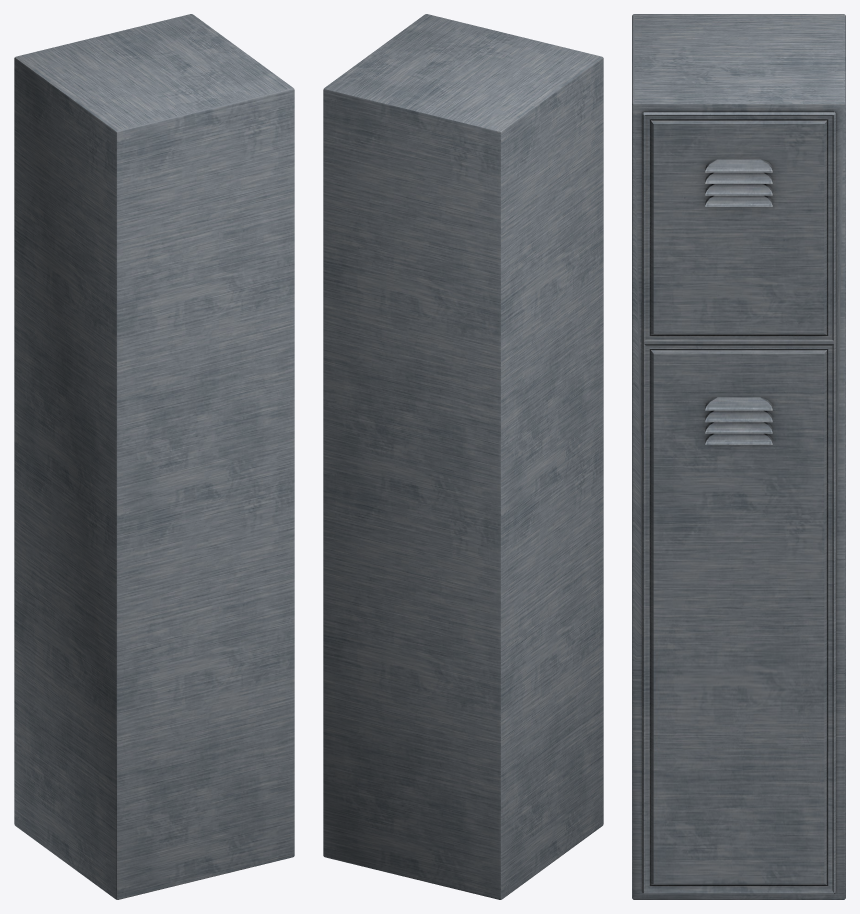
Rendered from locker.glb.
3 views of the same model, side by side, from view 1: azimuth 30°, elevation 25°; view 2: azimuth 150°, elevation 25°; view 3: azimuth 270°, elevation 25° (orthographic). The views are drawn at different scales.
Parts seen in each view (by area): view 1: Spint_0; view 2: Spint_0; view 3: Spint_0.
Part boxes in pixels (x1,y1,x2,y2): Spint_0: (14, 14, 294, 899); Spint_0: (323, 14, 603, 899); Spint_0: (632, 14, 845, 899).
Size of the model in its own units: 0.594 by 2.3 by 0.5584.
Materials: 1 (1 with a texture image).
